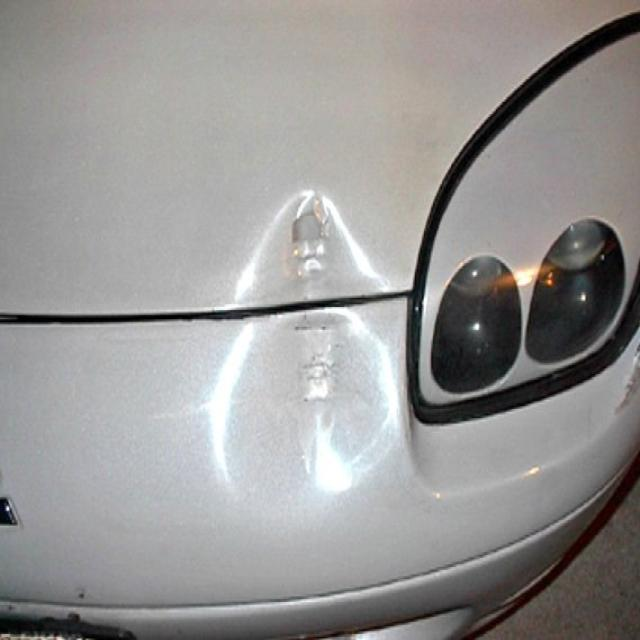dent: (220, 190, 408, 525)
scratch: (611, 340, 640, 420)
